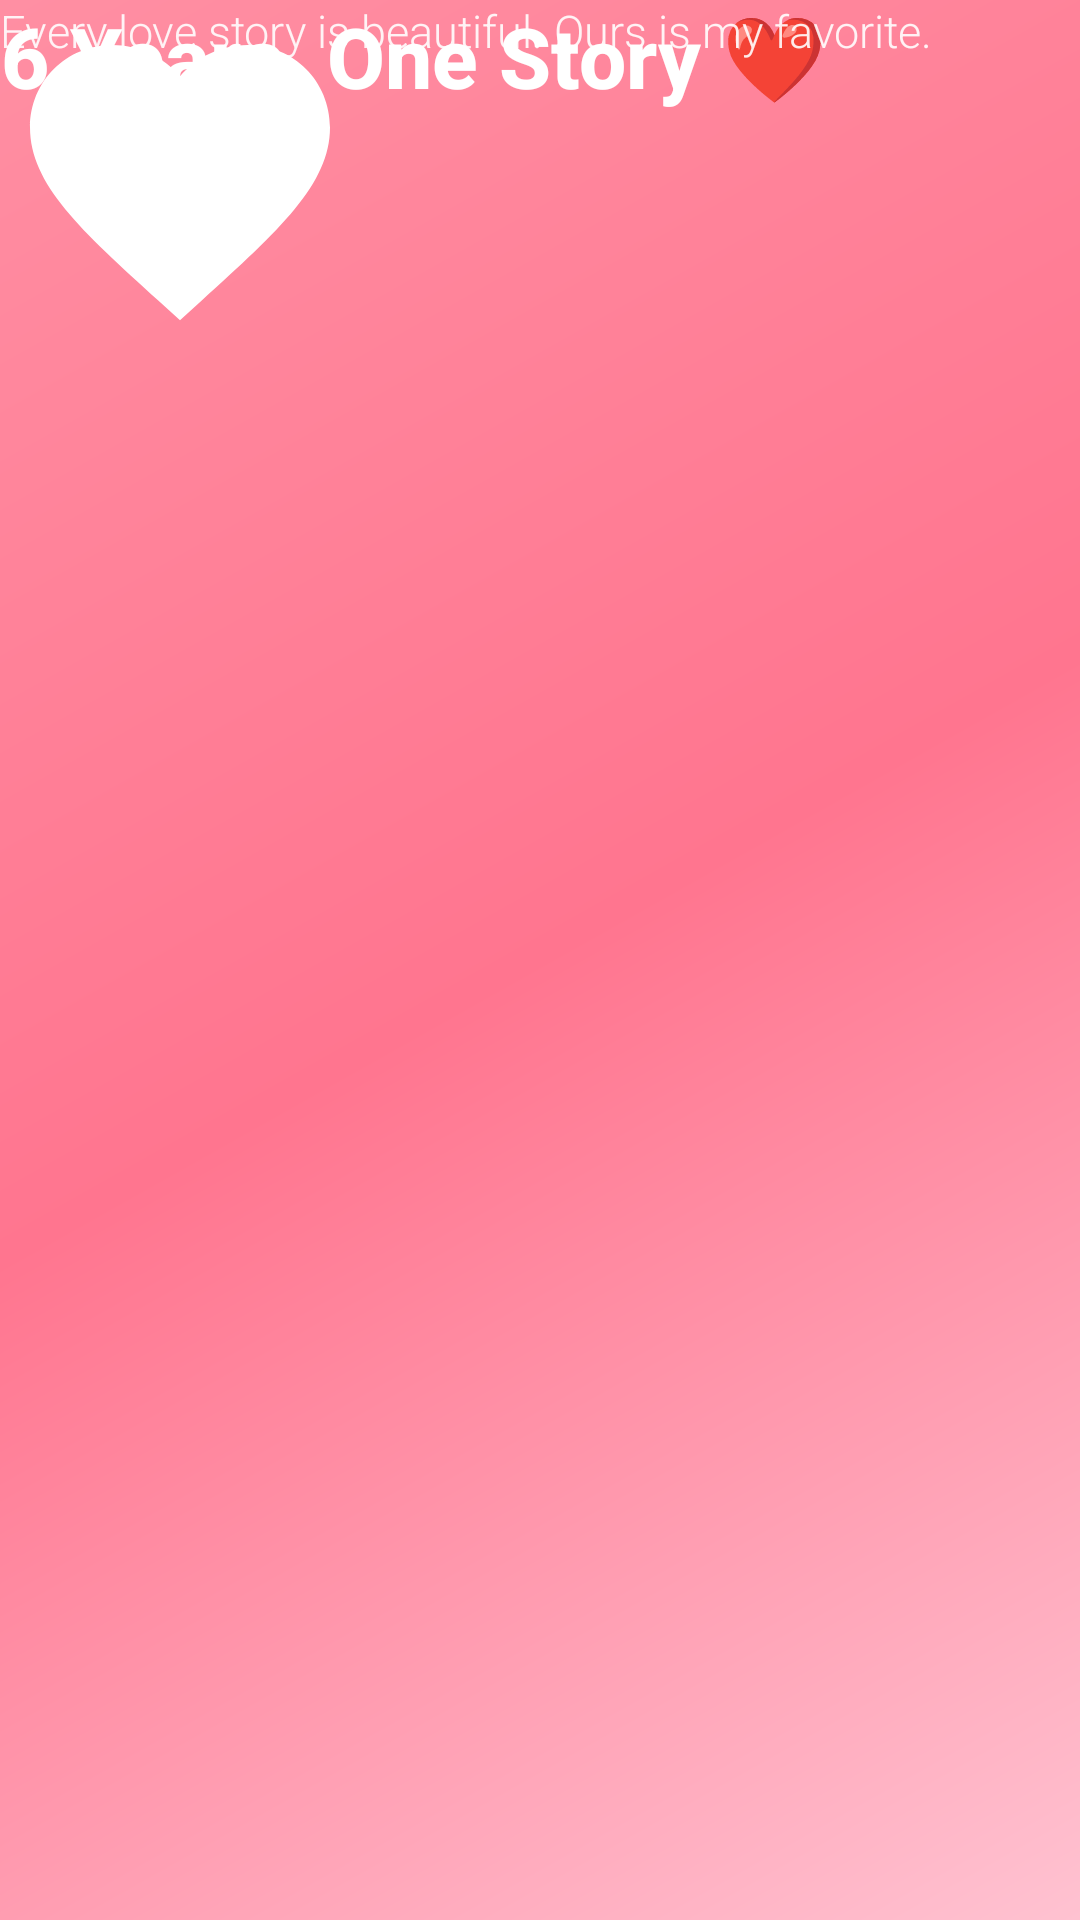

Icons on this 1080×1920 Android screen, each with its box as region(x1, y1, x2, y2):
heart: region(4, 14, 330, 320)
